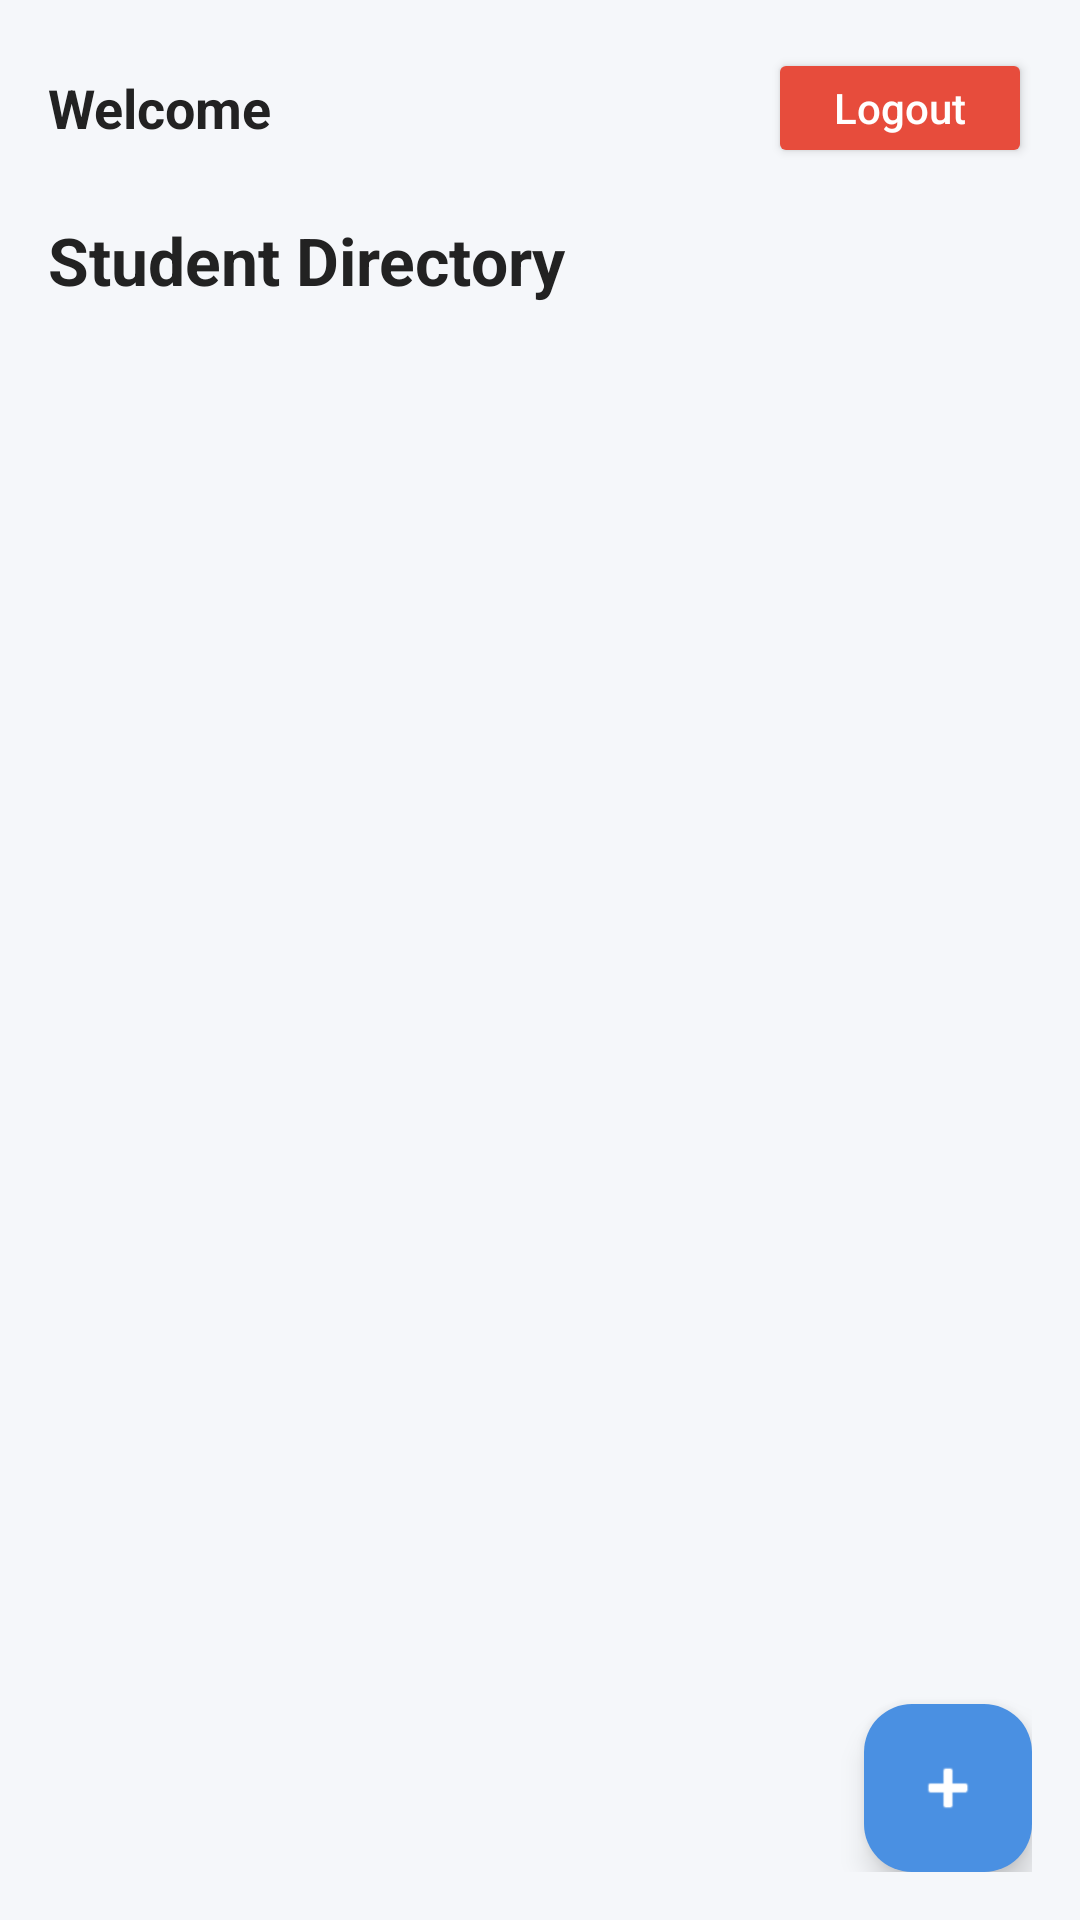

Named icons in this screenshot (1080 × 1920) and their centers, point (x, y):
Add Student: point (948, 1788)
